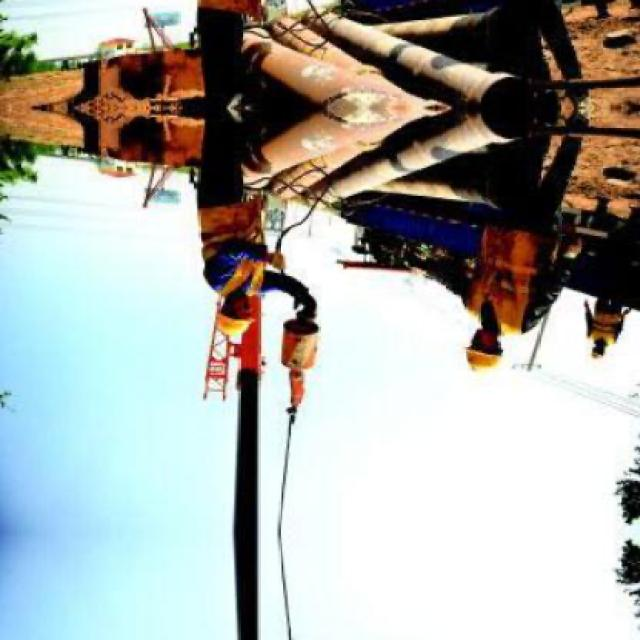con casco: (162, 274, 250, 342), (430, 312, 514, 381)
